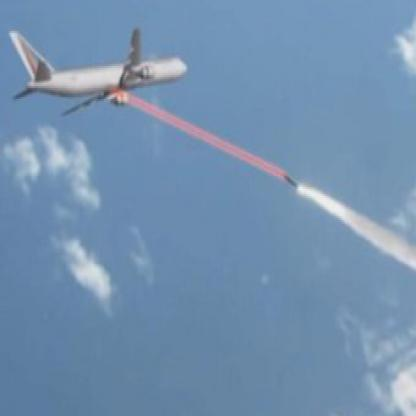CIV_Plane: (2, 20, 192, 126)
